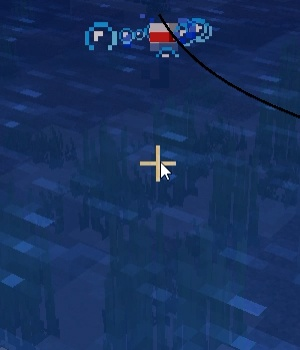up: (144, 21, 189, 91)
